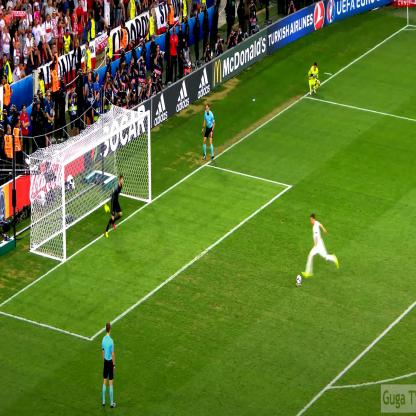penalty kick: (28, 111, 338, 294)
